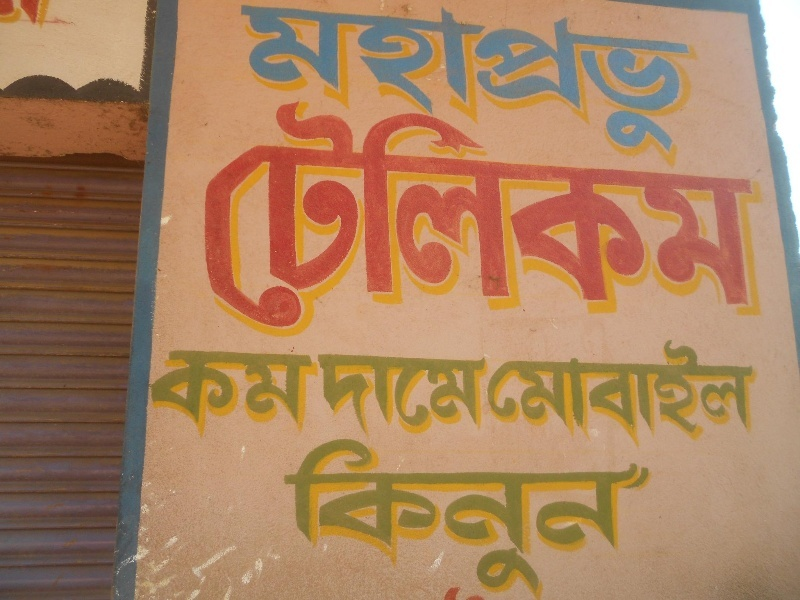text: (209, 89, 224, 345), (225, 89, 240, 345), (241, 89, 256, 345), (257, 89, 272, 345), (273, 89, 288, 345), (289, 89, 304, 345), (305, 89, 320, 345), (321, 89, 336, 345), (337, 89, 352, 345), (353, 89, 368, 345), (369, 89, 384, 345), (385, 89, 400, 345), (401, 89, 416, 345), (417, 89, 432, 345), (433, 89, 448, 345), (449, 89, 464, 345), (465, 89, 480, 345), (481, 89, 496, 345), (497, 89, 512, 345), (513, 89, 528, 345), (529, 89, 544, 345), (545, 89, 560, 345), (561, 89, 576, 345), (577, 89, 592, 345), (593, 89, 608, 345), (609, 89, 624, 345), (625, 89, 640, 345), (641, 89, 656, 345), (657, 89, 672, 345), (673, 89, 688, 345), (689, 89, 704, 345), (705, 89, 720, 345), (721, 89, 736, 345), (737, 89, 752, 345), (753, 89, 765, 345), (241, 1, 256, 164), (257, 1, 272, 164), (273, 1, 288, 164), (289, 1, 304, 164), (305, 1, 320, 164), (321, 1, 336, 164), (337, 1, 352, 164), (353, 1, 368, 164), (369, 1, 384, 164), (385, 1, 400, 164), (401, 1, 416, 164), (417, 1, 432, 164), (433, 1, 448, 164), (449, 1, 464, 164), (465, 1, 480, 164), (481, 1, 496, 164), (497, 1, 512, 164), (513, 1, 528, 164), (529, 1, 544, 164), (545, 1, 560, 164), (561, 1, 576, 164), (577, 1, 592, 164), (593, 1, 608, 164), (609, 1, 624, 164), (625, 1, 640, 164), (641, 1, 656, 164), (657, 1, 672, 164), (673, 1, 688, 164), (289, 438, 304, 599), (305, 438, 320, 599), (321, 438, 336, 599), (337, 438, 352, 599), (353, 438, 368, 599), (369, 438, 384, 599), (385, 438, 400, 599), (401, 438, 416, 599), (417, 438, 432, 599), (433, 438, 448, 599), (449, 438, 464, 599), (465, 438, 480, 599), (481, 438, 496, 599), (497, 438, 512, 599), (513, 438, 528, 599), (529, 438, 544, 599), (545, 438, 560, 599), (561, 438, 576, 599), (577, 438, 592, 599), (593, 438, 608, 599), (609, 438, 624, 599), (625, 438, 640, 599), (641, 438, 656, 599), (689, 1, 702, 164), (277, 438, 288, 599), (657, 438, 668, 599), (497, 336, 512, 449), (513, 336, 528, 449), (529, 336, 544, 449), (545, 336, 560, 449), (561, 336, 576, 449), (577, 336, 592, 449), (593, 336, 608, 449), (609, 336, 624, 449), (625, 336, 640, 449), (641, 336, 656, 449), (657, 336, 672, 449), (673, 336, 688, 449), (689, 336, 704, 449), (705, 336, 720, 449), (721, 336, 736, 449), (737, 336, 752, 449), (202, 89, 208, 345), (161, 350, 176, 440), (177, 350, 192, 440), (193, 350, 208, 440), (209, 350, 224, 440), (225, 350, 240, 440), (241, 350, 256, 440), (257, 350, 272, 440), (273, 350, 288, 440), (289, 350, 304, 440), (321, 353, 336, 437), (337, 353, 352, 437), (353, 353, 368, 437), (369, 353, 384, 437), (385, 353, 400, 437), (401, 353, 416, 437), (417, 353, 432, 437), (433, 353, 448, 437), (449, 353, 464, 437), (465, 353, 480, 437), (305, 350, 318, 440), (481, 353, 492, 437), (489, 336, 496, 449), (753, 336, 760, 449), (17, 1, 32, 33), (33, 1, 48, 33), (3, 1, 16, 33), (49, 1, 58, 33), (157, 350, 160, 440), (318, 353, 320, 437)
